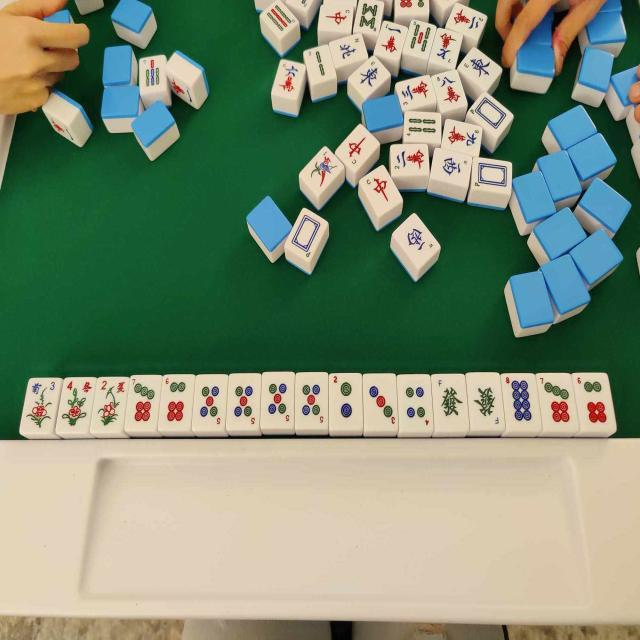bf3: (26, 380, 58, 430)
bs2: (99, 376, 129, 426)
bs4: (62, 377, 94, 428)
hdg: (472, 374, 502, 424), (438, 378, 466, 424)
hwe: (349, 56, 390, 102)
sb1: (300, 148, 345, 197)
sb7: (138, 54, 168, 94)
sd2: (333, 374, 361, 422)
sd3: (368, 382, 398, 427)
sd4: (402, 380, 432, 427)
sd5: (300, 376, 328, 424), (265, 378, 293, 424), (198, 380, 224, 426), (232, 382, 258, 424)
sd6: (574, 372, 608, 424), (166, 379, 192, 427)
sd7: (542, 376, 574, 428), (132, 380, 157, 428)
sd8: (503, 373, 533, 423)
